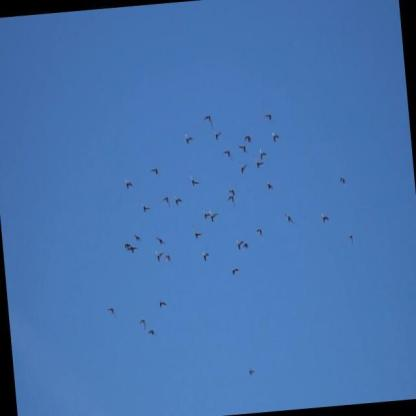bird: (189, 168, 200, 189), (190, 224, 203, 241), (207, 208, 219, 225), (138, 198, 151, 213), (263, 111, 275, 126), (252, 153, 264, 168), (283, 211, 295, 226), (153, 234, 166, 247), (212, 127, 223, 142), (238, 142, 249, 157), (172, 192, 183, 207), (201, 206, 211, 222), (154, 248, 164, 264), (157, 295, 167, 311), (203, 114, 214, 128), (223, 149, 234, 162), (150, 165, 161, 178), (125, 245, 138, 256), (200, 250, 211, 263), (184, 132, 194, 146), (226, 194, 236, 208), (256, 226, 264, 243), (243, 131, 252, 146), (239, 159, 248, 174), (235, 237, 244, 252), (138, 317, 147, 332), (320, 211, 330, 224), (107, 306, 117, 319), (271, 130, 280, 144), (226, 185, 236, 197), (230, 265, 240, 277), (258, 148, 267, 161), (164, 252, 173, 265), (162, 195, 170, 209), (147, 328, 158, 338), (125, 177, 133, 190), (266, 179, 274, 192), (339, 175, 347, 188), (347, 233, 354, 246), (134, 231, 141, 243), (124, 240, 132, 250), (248, 367, 255, 377), (242, 240, 249, 249)
